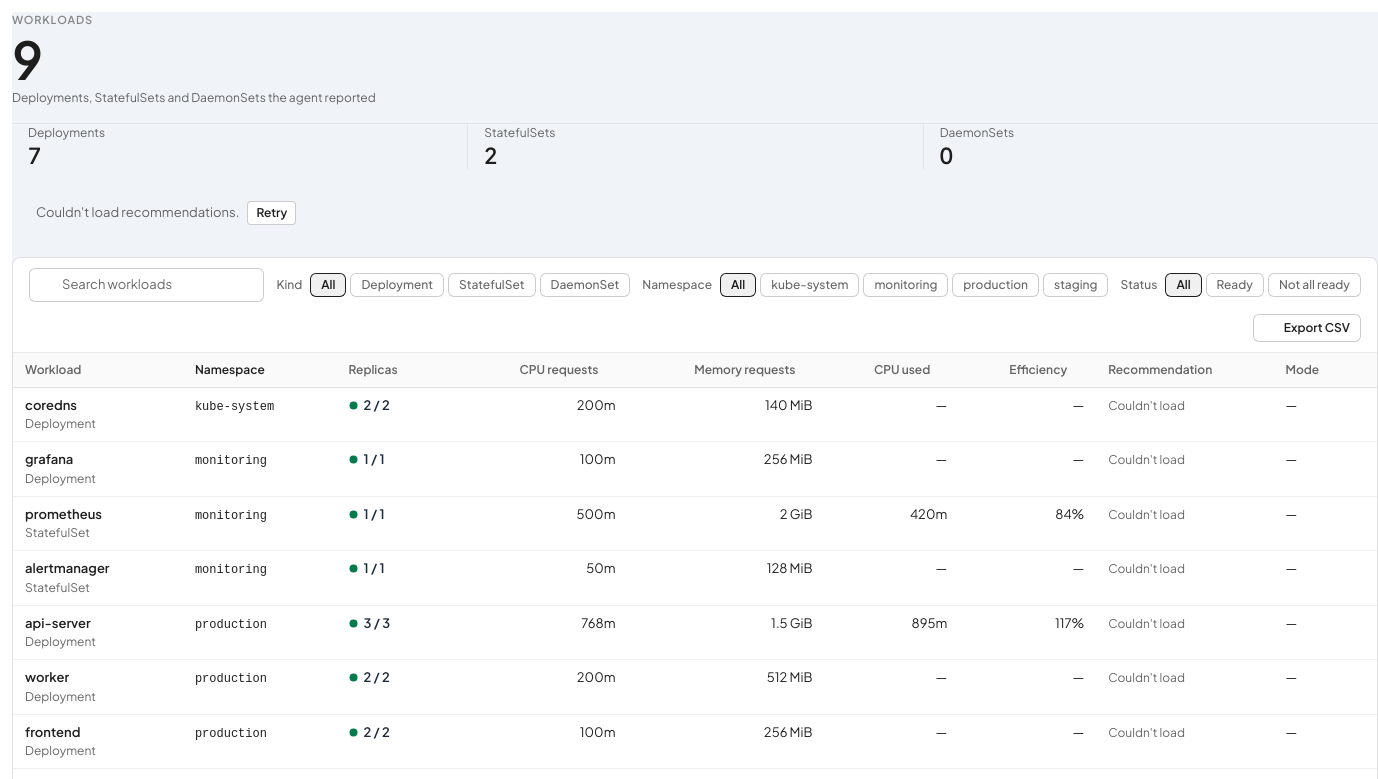
Test: Workloads › Workloads (§10.4) › offers Retry when the engine read fails
Check: the text "Couldn't load recommendations." is shown, box [36, 204, 239, 220]
Click the button "Retry" at [272, 213], box [247, 201, 296, 225]
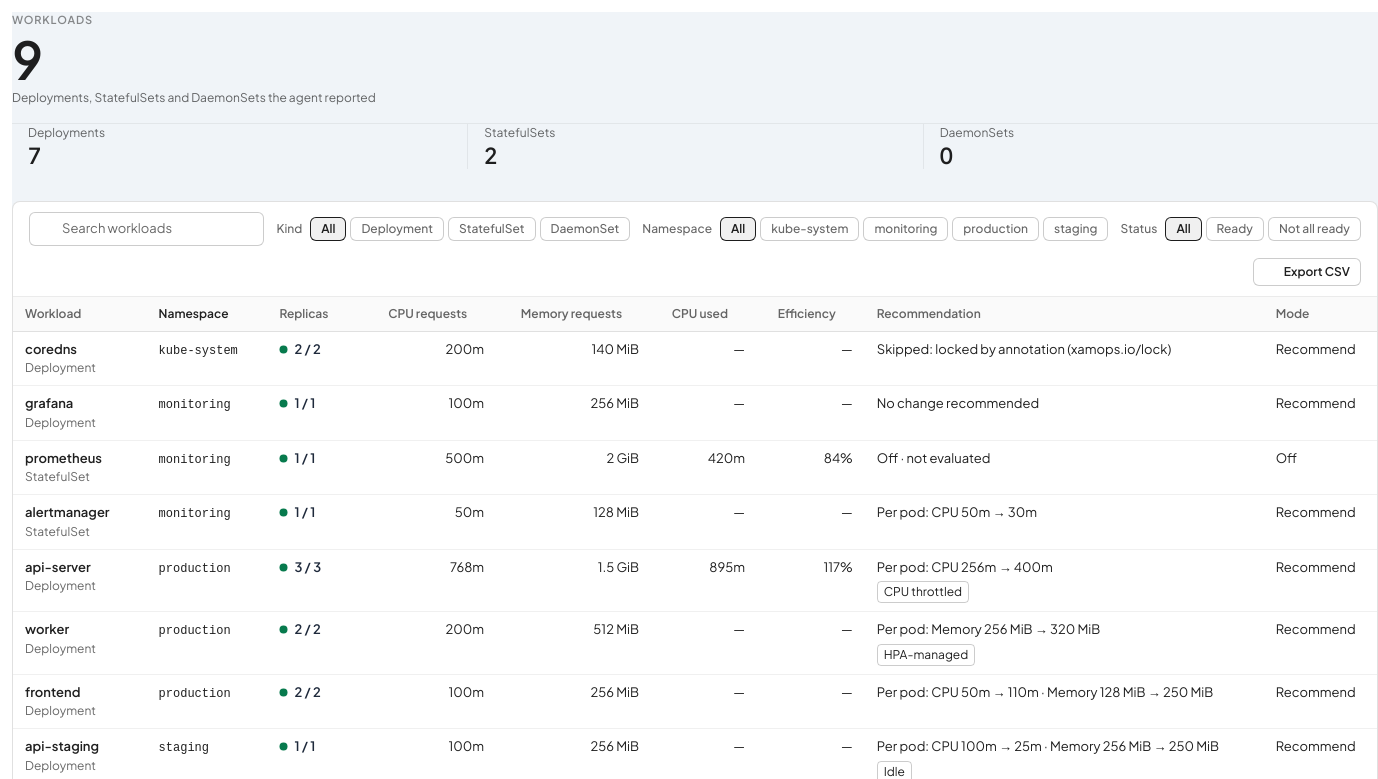
Check: the text "Couldn't load recommendations." is gone
